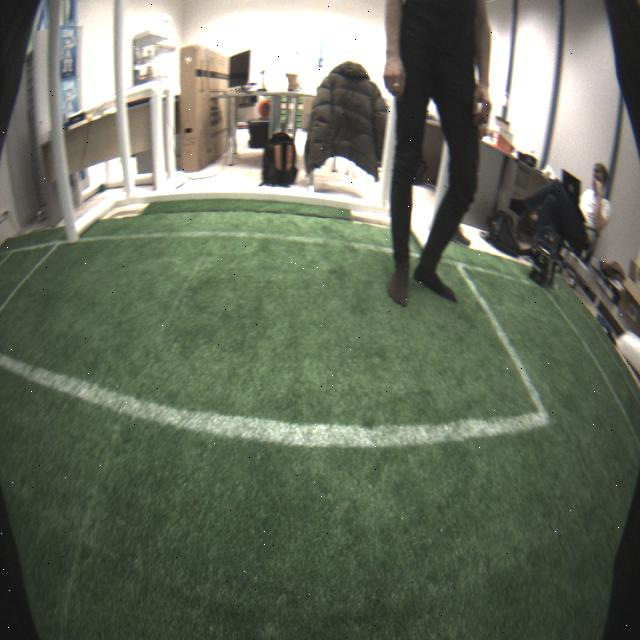goalpost: (39, 2, 79, 243), (426, 140, 462, 249)
